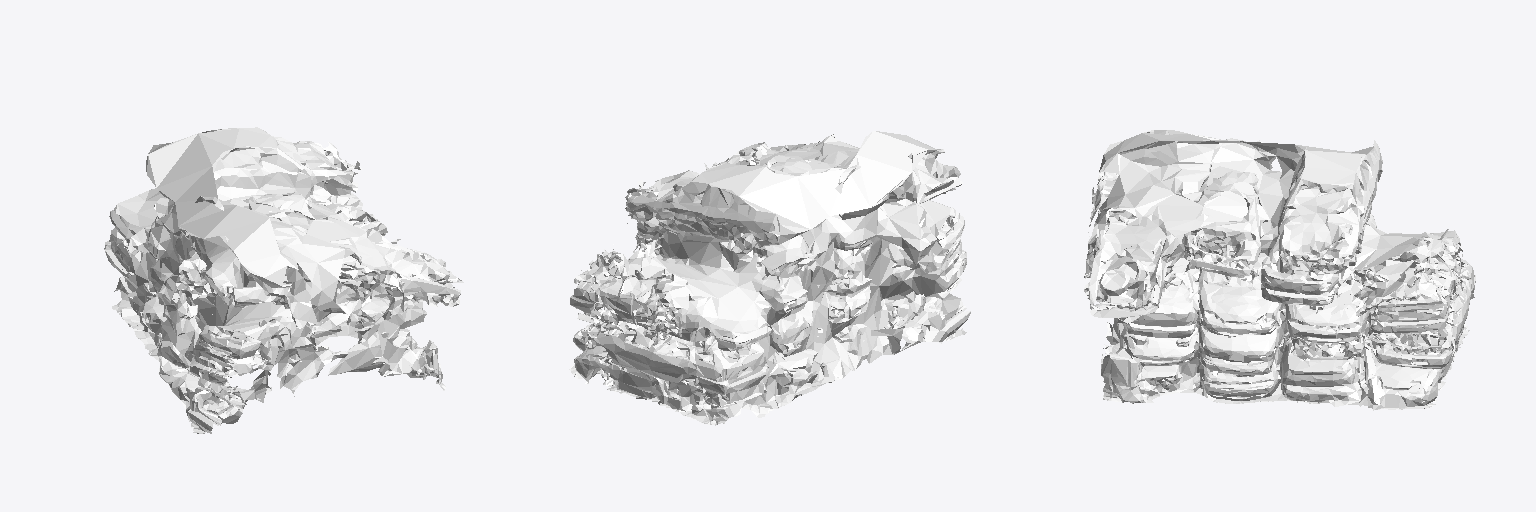
The model's file is CarStacks02.obj.
The picture shows the model from 3 angles: view 1: azimuth 30°, elevation 25°; view 2: azimuth 150°, elevation 25°; view 3: azimuth 270°, elevation 25°; orthographic projection.
Parts seen in each view (by area): view 1: carwall; view 2: carwall; view 3: carwall.
Part boxes in pixels (x1,y1,x2,y2): carwall: (104, 127, 463, 433); carwall: (569, 131, 970, 425); carwall: (1084, 130, 1475, 410).
Size of the model in its own units: 10.3 by 7.56 by 13.33.